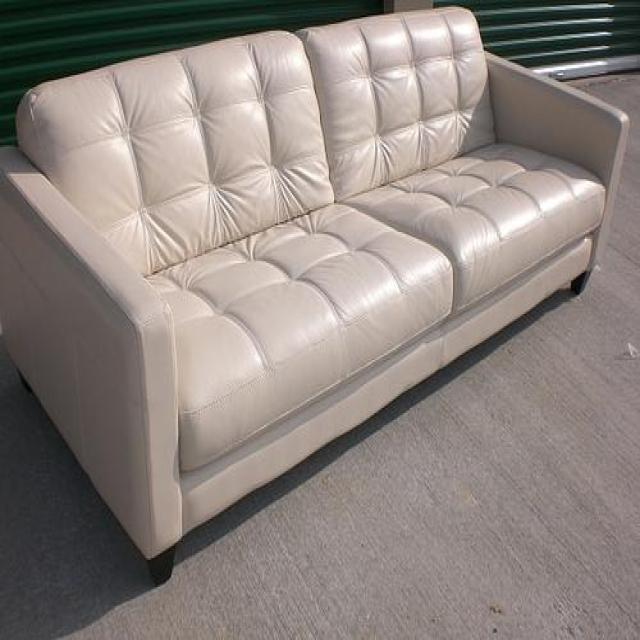sofa: (2, 6, 632, 588)
